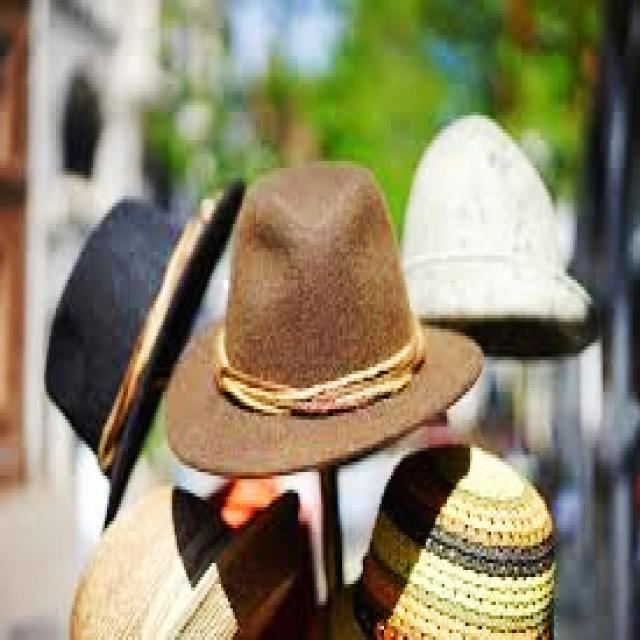TOPI: (161, 147, 488, 479), (37, 168, 249, 531), (393, 98, 610, 360), (349, 434, 561, 636), (68, 476, 314, 636)
